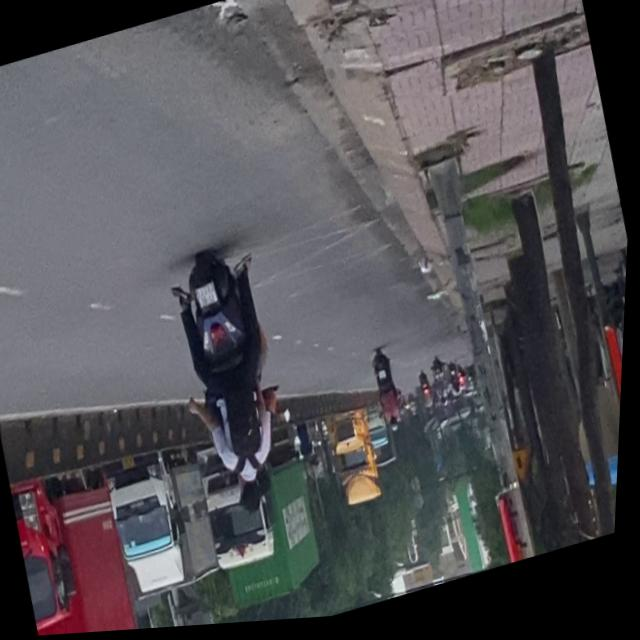licenseplate: (155, 237, 313, 535)
motorcyclist: (236, 475, 270, 521)
nohelmet: (196, 284, 219, 310)
